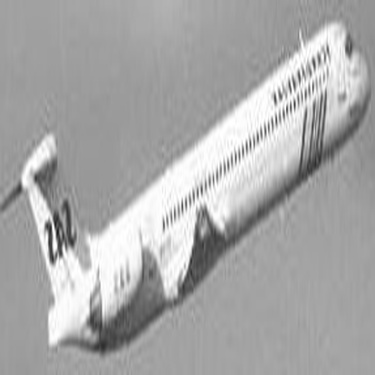airplane: (8, 5, 371, 371)
